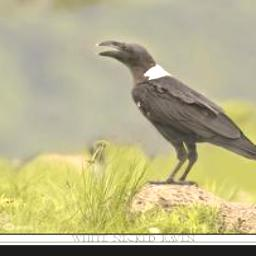Crow: (93, 38, 256, 187)
